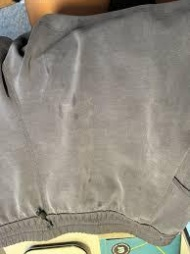oil: (55, 104, 68, 121), (71, 91, 81, 106), (83, 176, 95, 188), (92, 202, 103, 209), (75, 116, 83, 125)
